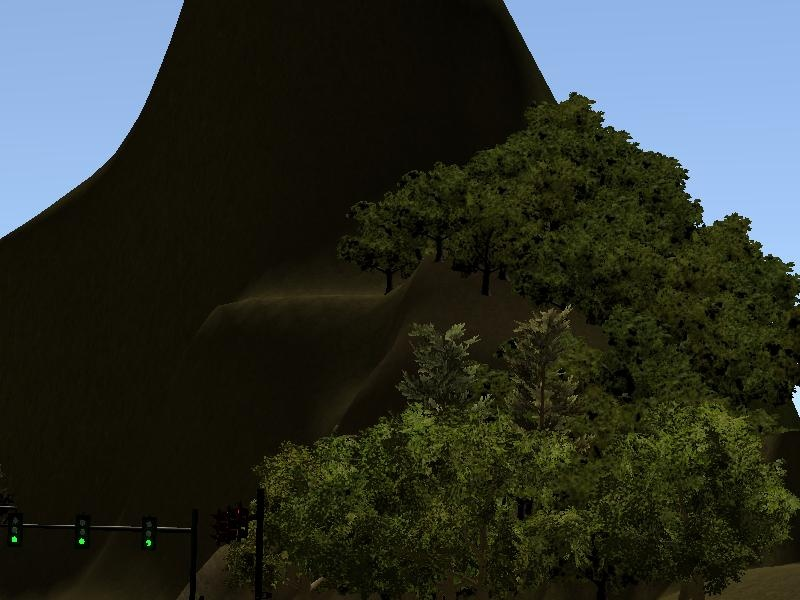GREEN: (71, 513, 92, 556), (138, 513, 158, 552), (4, 507, 23, 547)
